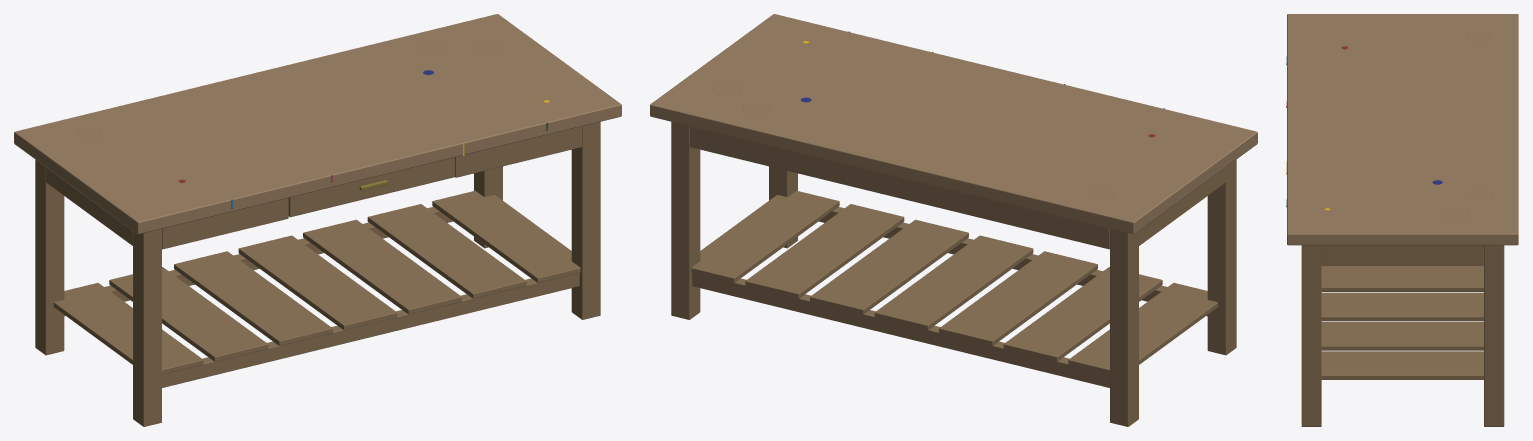
The model's file is bench.glb.
3 views of the same model, side by side, from view 1: azimuth 30°, elevation 25°; view 2: azimuth 150°, elevation 25°; view 3: azimuth 270°, elevation 25° (orthographic). The views are drawn at different scales.
Parts seen in each view (by area): view 1: Bench_Top, Bench, Bench_Stretcher_-1, Bench_Drawer_Front, Bench_Apron_Front_-1, Bench_Apron_Side_-1; view 2: Bench_Top, Bench, Bench_Apron_Back, Bench_Apron_Side_-1, Bench_Stretcher_-1; view 3: Bench_Top, Bench.
Boxes of the visible parts, left/top/right/bottom form: Bench_Top: left=14, top=14, right=621, bottom=234; Bench: left=35, top=42, right=600, bottom=426; Bench_Stretcher_-1: left=162, top=273, right=579, bottom=387; Bench_Drawer_Front: left=288, top=157, right=454, bottom=217; Bench_Apron_Front_-1: left=162, top=198, right=288, bottom=249; Bench_Apron_Side_-1: left=46, top=167, right=132, bottom=245; Bench_Top: left=650, top=14, right=1257, bottom=234; Bench: left=671, top=31, right=1236, bottom=426; Bench_Apron_Back: left=690, top=126, right=1109, bottom=249; Bench_Apron_Side_-1: left=1139, top=167, right=1225, bottom=245; Bench_Stretcher_-1: left=819, top=206, right=1207, bottom=316; Bench_Top: left=1287, top=14, right=1518, bottom=245; Bench: left=1286, top=33, right=1504, bottom=426.
Size of the model in its own units: 1.8 by 0.7604 by 0.8027.
